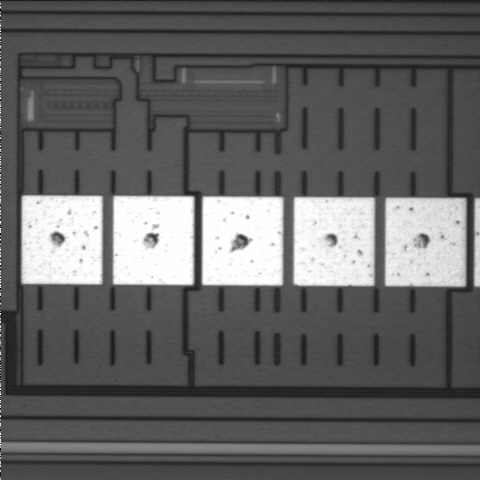pad: (202, 196, 283, 286), (113, 196, 194, 285), (294, 197, 375, 286), (22, 196, 103, 284), (385, 198, 466, 286)
